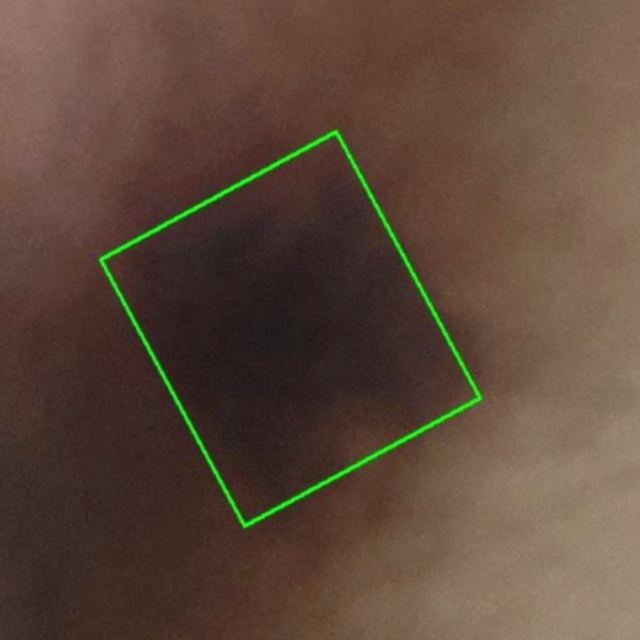Contact Dermatitis: (100, 132, 481, 527)
